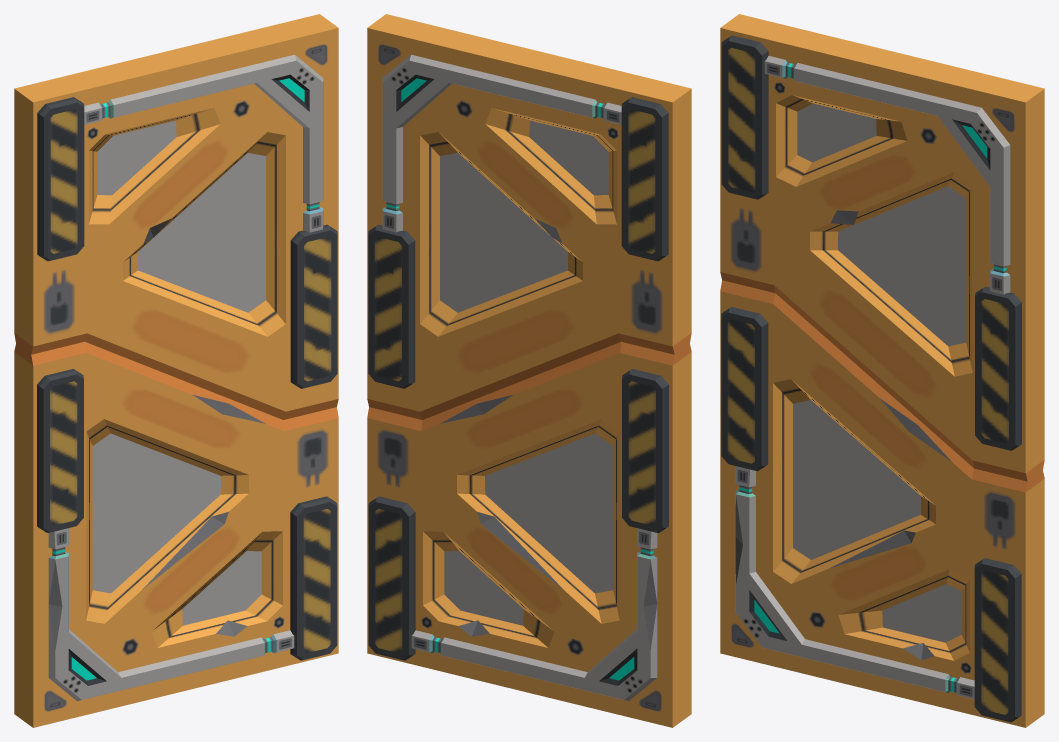
The model's file is SM_Bld_Door_NoFrame_Single_02.fbx.
3 renders of one model, left to right at view 1: azimuth 30°, elevation 25°; view 2: azimuth 150°, elevation 25°; view 3: azimuth 330°, elevation 25°, orthographic.
Visible parts, largest first — view 1: SM_Bld_Door_NoFrame_Single_02; view 2: SM_Bld_Door_NoFrame_Single_02; view 3: SM_Bld_Door_NoFrame_Single_02.
Part boxes in pixels (x1,y1,x2,y2): SM_Bld_Door_NoFrame_Single_02: [14, 14, 338, 727]; SM_Bld_Door_NoFrame_Single_02: [367, 14, 691, 727]; SM_Bld_Door_NoFrame_Single_02: [720, 14, 1044, 727].
Size of the model in its own units: 101 by 197 by 16.17.
